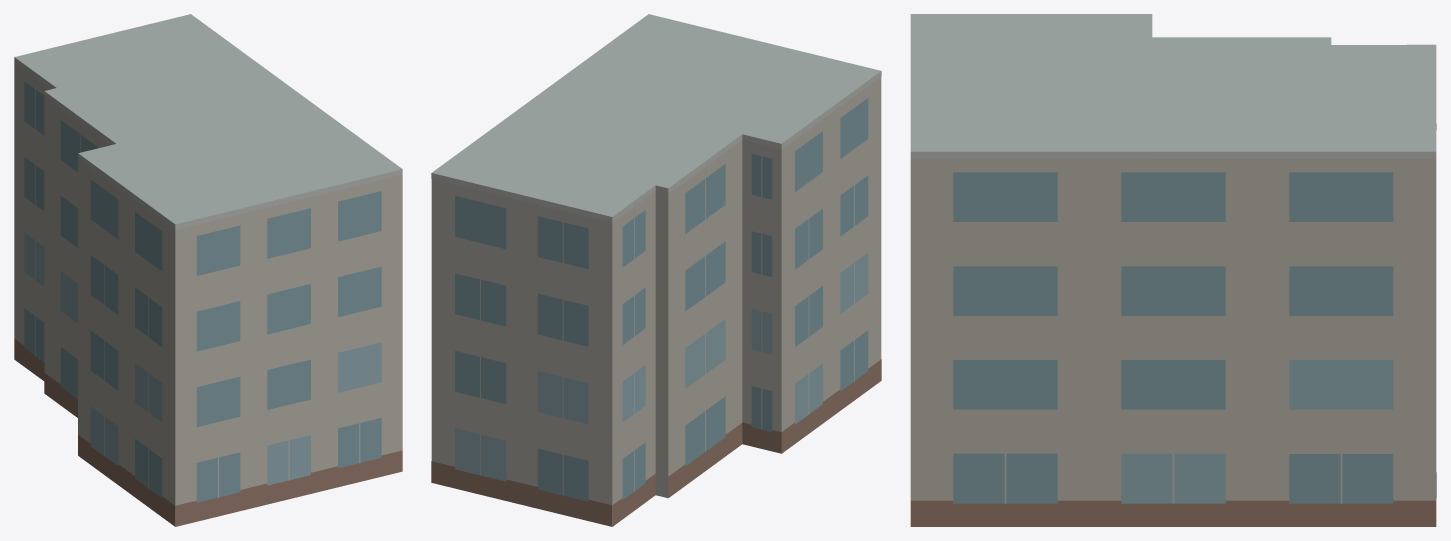
File: survey-upis-32962609.glb
The picture shows the model from 3 angles, left to right: view 1: azimuth 30°, elevation 25°; view 2: azimuth 150°, elevation 25°; view 3: azimuth 270°, elevation 25°; orthographic projection. The views are drawn at different scales.
Parts seen in each view (by area): view 1: survey-upis-32962609.tmp; view 2: survey-upis-32962609.tmp; view 3: survey-upis-32962609.tmp.
Boxes of the visible parts, <box> form: survey-upis-32962609.tmp: <box>14,14,402,526</box>; survey-upis-32962609.tmp: <box>431,14,881,526</box>; survey-upis-32962609.tmp: <box>910,14,1436,526</box>.
Bounding box in the file's own units: 10.48 × 13.3 × 16.91.
